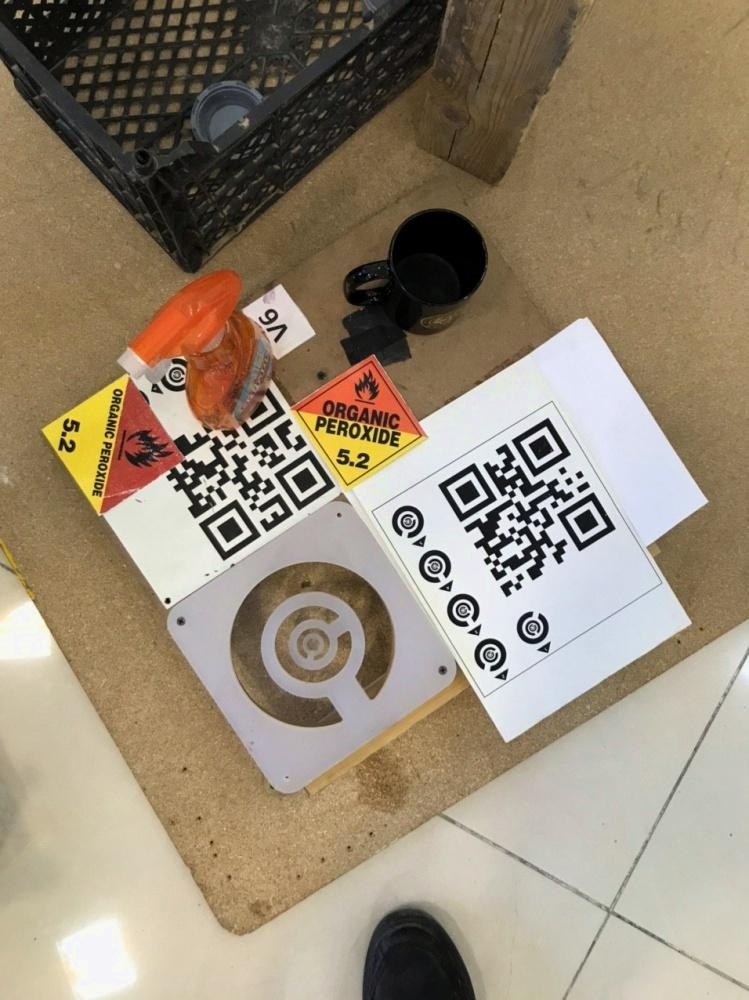organic-peroxide: (40, 372, 184, 516), (293, 356, 429, 485)
